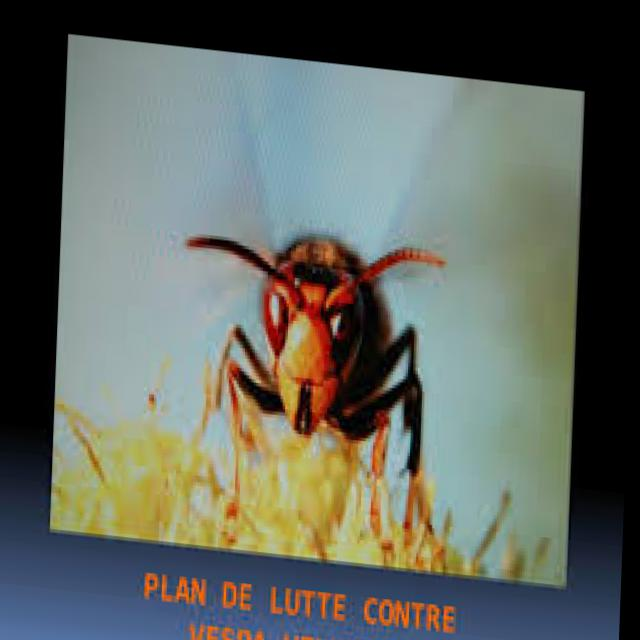Vespa Velutina: (174, 193, 454, 561)
